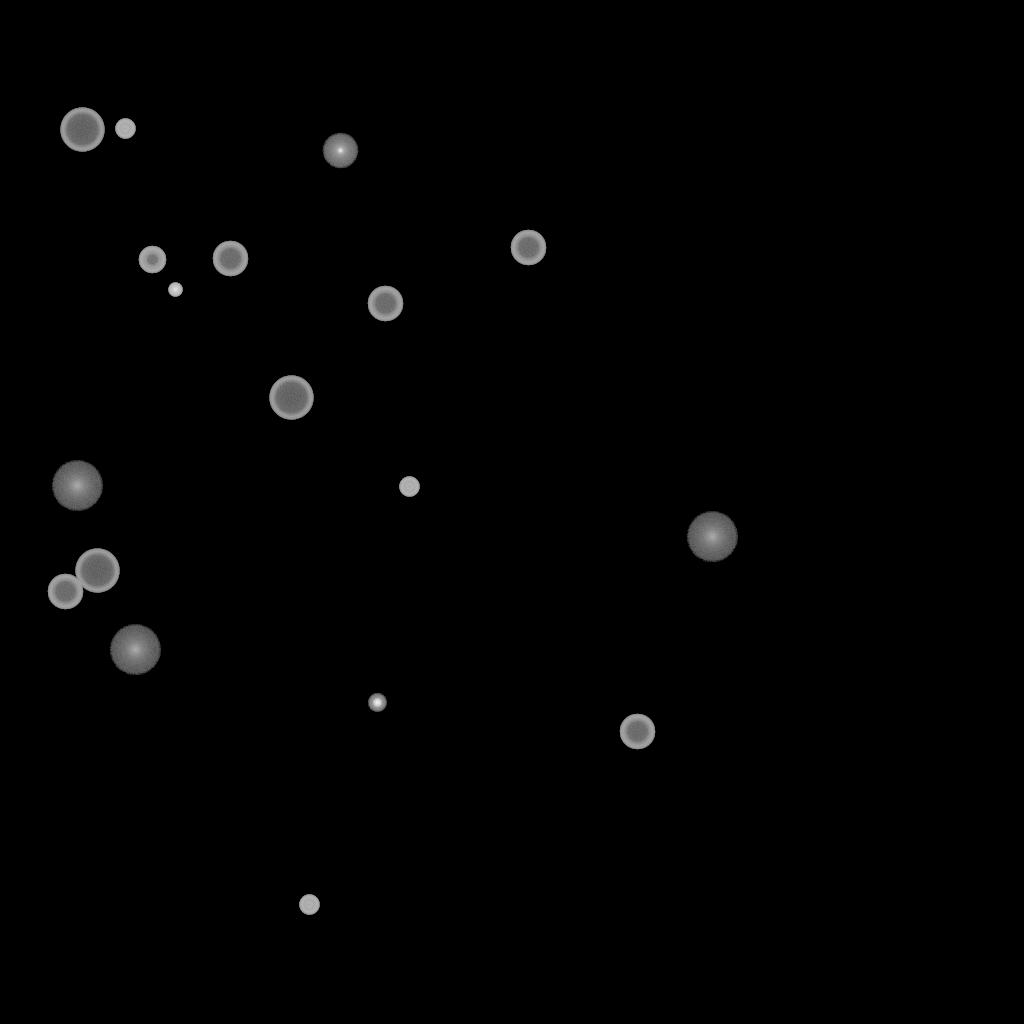depth:-20: (368, 694, 386, 712)
depth:-30: (168, 283, 182, 297)
depth:-40: (299, 895, 319, 915), (399, 477, 419, 497), (115, 119, 135, 139)
depth:-50: (138, 246, 166, 274)
depth:-60: (47, 574, 83, 610), (212, 241, 248, 277), (367, 286, 403, 322), (510, 230, 546, 266), (619, 714, 655, 750)
depth:-70: (60, 108, 104, 152), (75, 549, 119, 593), (269, 376, 313, 420)
depth:0: (322, 133, 358, 169)
depth:20: (51, 461, 103, 511), (109, 625, 161, 675), (686, 512, 738, 562)
